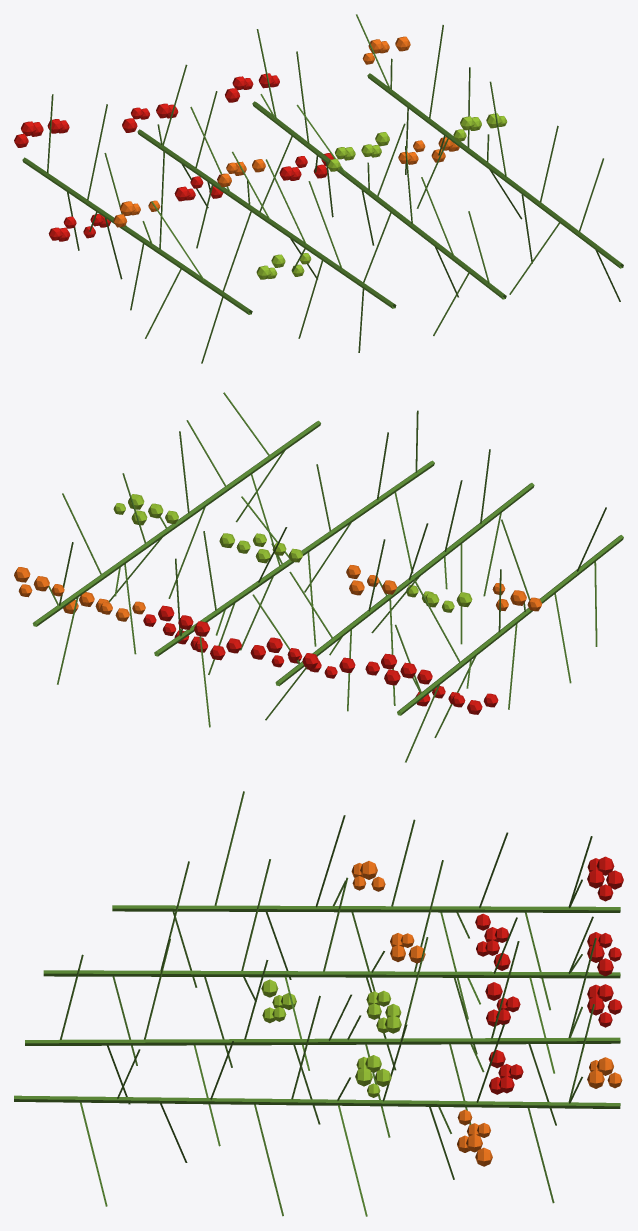
File: r19c5_stems.obj
3 views of the same model, one above another, from view 1: azimuth 30°, elevation 25°; view 2: azimuth 150°, elevation 25°; view 3: azimuth 270°, elevation 25° (orthographic). The views are drawn at different scales.
Parts seen in each view (by area): view 1: r19c5_stems; view 2: r19c5_stems; view 3: r19c5_stems.
Boxes of the visible parts, x1,y1,x2,y2 form: r19c5_stems: (14,14,623,363); r19c5_stems: (14,392,623,762); r19c5_stems: (14,791,623,1216).
Size of the model in its own units: 2.09 by 0.8504 by 2.24.
